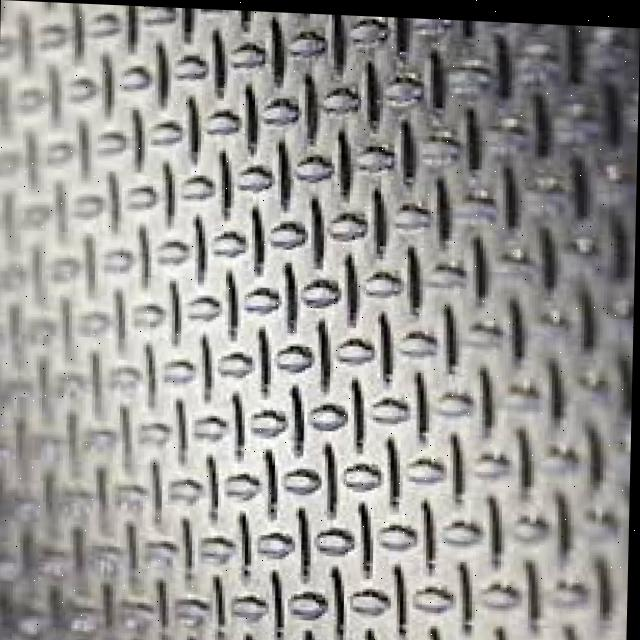Dry: (30, 4, 640, 640)
